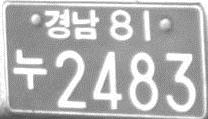1: (142, 9, 154, 42)
2: (55, 48, 88, 109)
3: (164, 52, 196, 113)
4: (91, 50, 123, 111)
8: (128, 50, 159, 112), (108, 9, 134, 41)
경남_O: (43, 9, 99, 40)
누: (11, 48, 48, 91)
